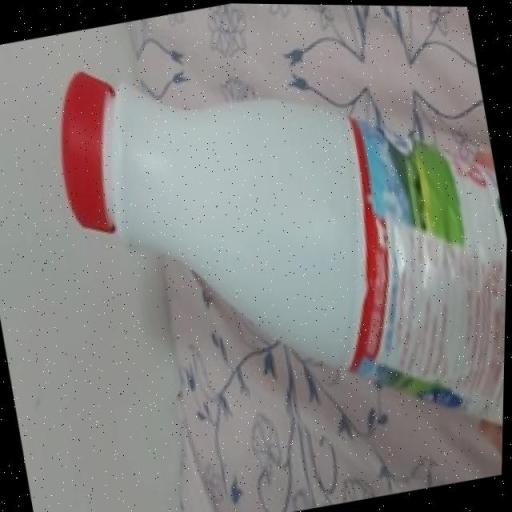plastic: (60, 71, 508, 424)
